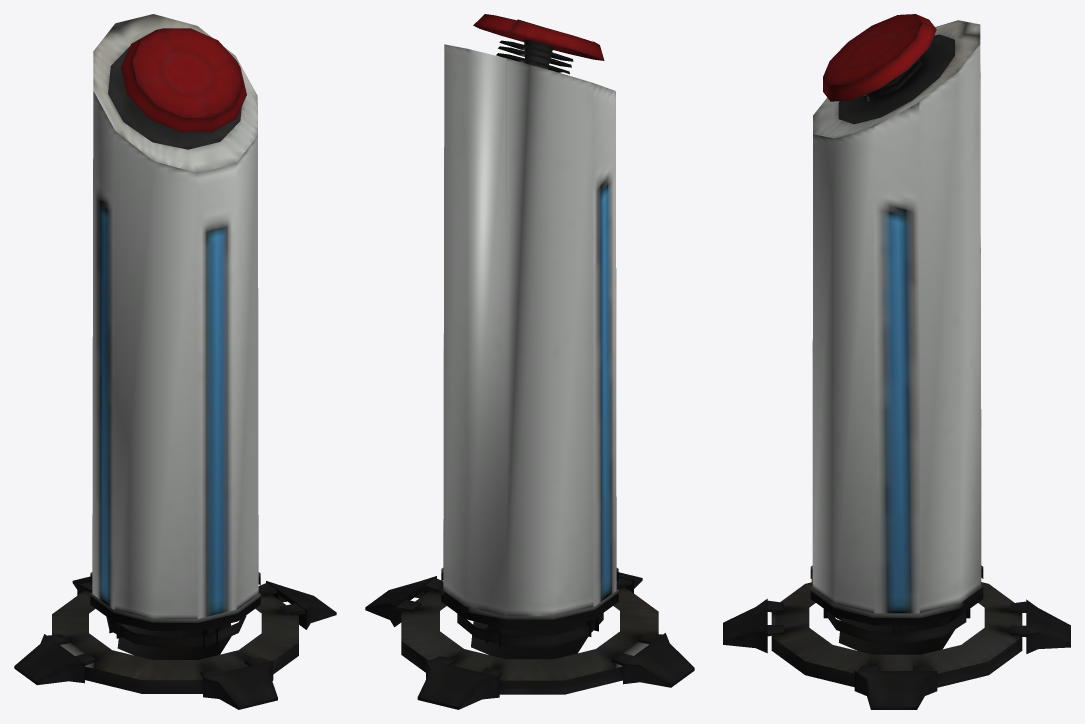
Rendered from button_pedastal.fbx.
3 views of the same model, side by side, from view 1: azimuth 30°, elevation 25°; view 2: azimuth 150°, elevation 25°; view 3: azimuth 270°, elevation 25° (orthographic). The views are drawn at different scales.
Parts seen in each view (by area): view 1: switch001_reference_lod2.003, switch001_reference_lod2; view 2: switch001_reference_lod2.003, switch001_reference_lod2; view 3: switch001_reference_lod2.003, switch001_reference_lod2.
Part boxes in pixels (box(x1,y1,x2,y2)): switch001_reference_lod2.003: box(14, 14, 336, 709); switch001_reference_lod2: box(121, 28, 246, 132); switch001_reference_lod2.003: box(365, 44, 694, 709); switch001_reference_lod2: box(473, 14, 604, 74); switch001_reference_lod2.003: box(723, 20, 1070, 709); switch001_reference_lod2: box(823, 14, 936, 101).
Size of the model in its own units: 2400 by 4672 by 2400.
